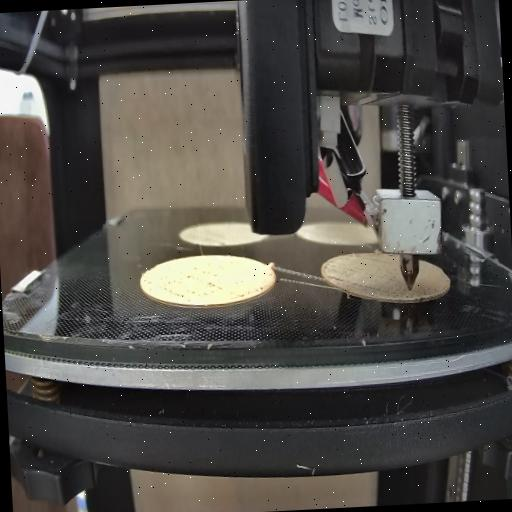under_extrusion: (144, 267, 226, 302), (322, 266, 384, 292), (390, 280, 438, 307), (235, 272, 269, 303)
